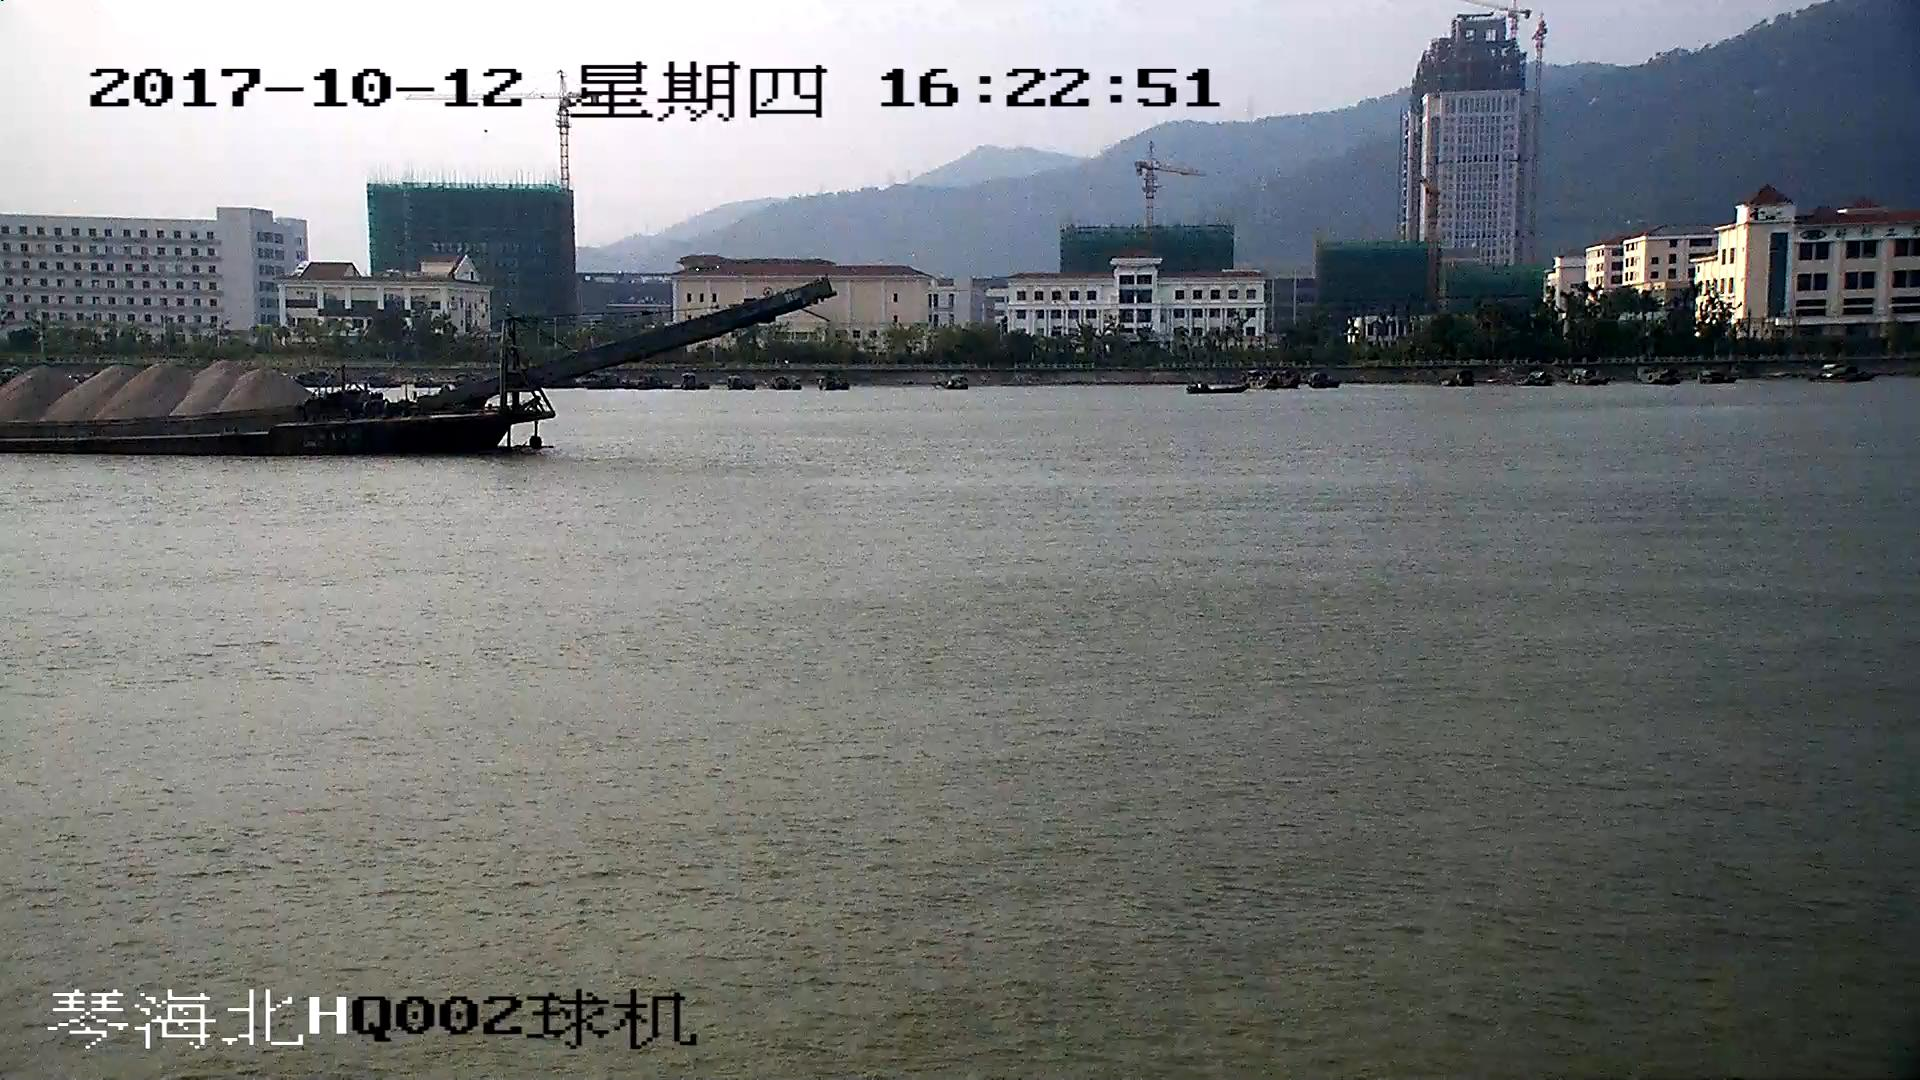ore carrier: (1, 288, 831, 452)
